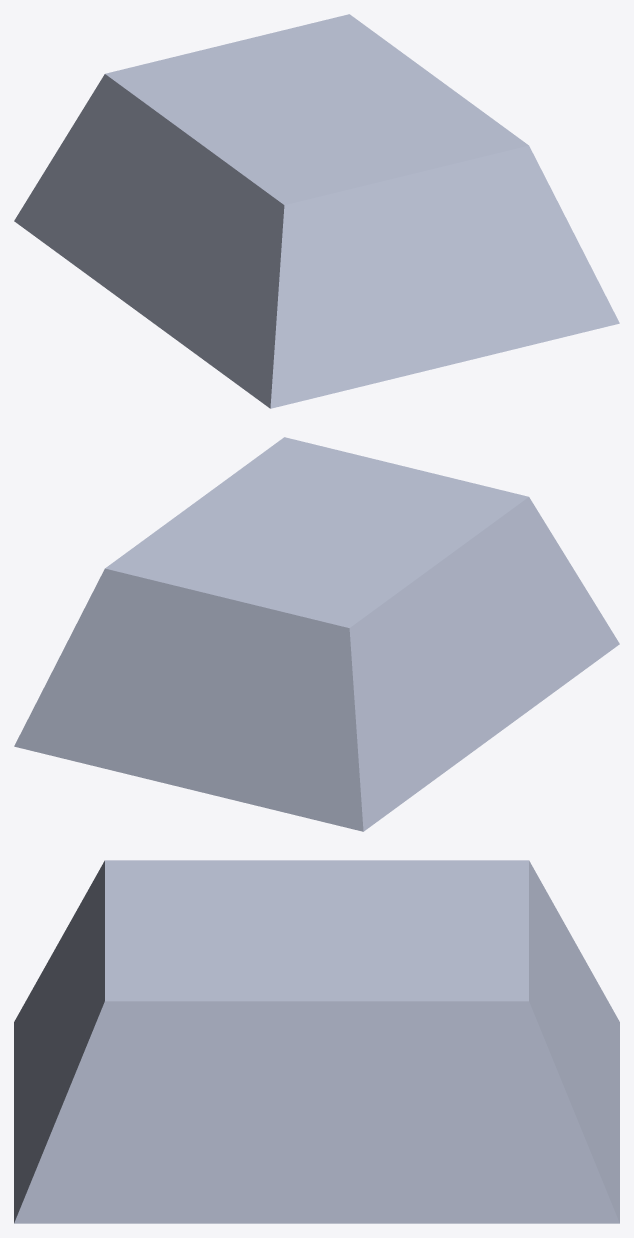
The model's file is ResourceIron.fbx.
3 views of the same model, one above another, from view 1: azimuth 30°, elevation 25°; view 2: azimuth 150°, elevation 25°; view 3: azimuth 270°, elevation 25° (orthographic). The views are drawn at different scales.
Parts seen in each view (by area): view 1: Model; view 2: Model; view 3: Model.
Boxes of the visible parts, <box> form: Model: <box>14,14,619,408</box>; Model: <box>14,437,619,831</box>; Model: <box>14,860,619,1223</box>.
Size of the model in its own units: 40.32 by 17.93 by 51.24.
